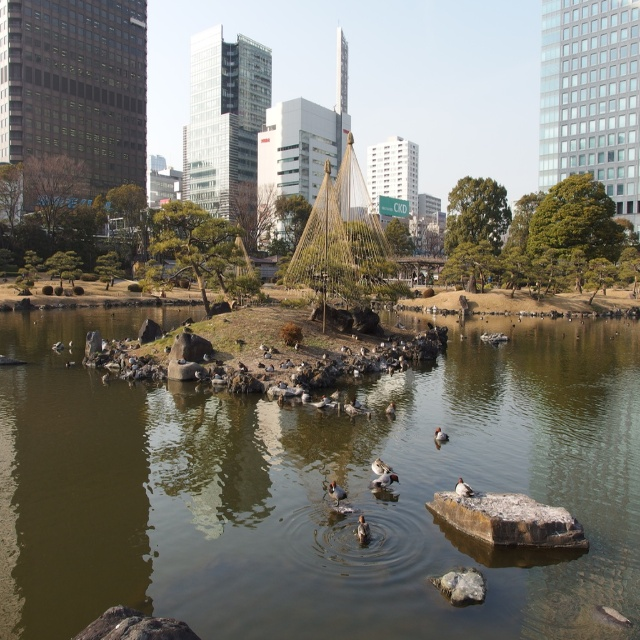Duck: (371, 456, 407, 489), (330, 478, 348, 506), (455, 477, 475, 494), (354, 520, 368, 542), (436, 426, 449, 442)
